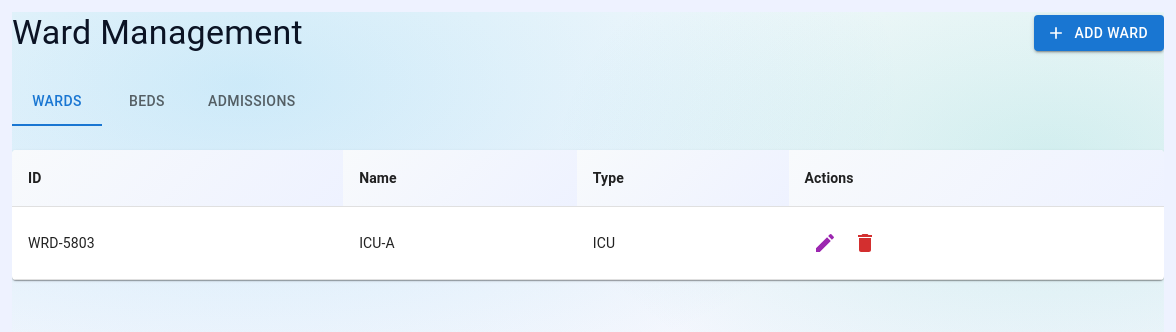
Test: Ward Management page › switches to beds tab and shows bed rows
Expected: the text "ICU-A" is shown, [343,206,577,280]
Click the tab "Beds" at (147, 102), box [102,78,192,126]
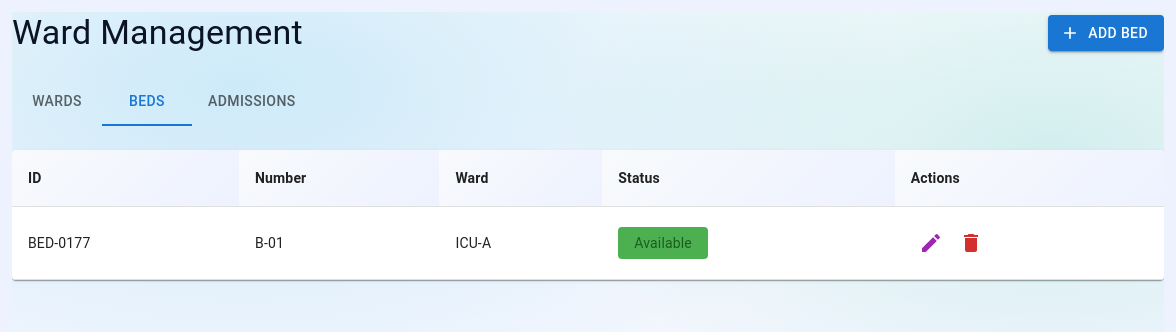
Expected: the text "B-01" is shown, [239,206,439,280]
Expected: the text "Available" is shown, [618,227,708,259]
